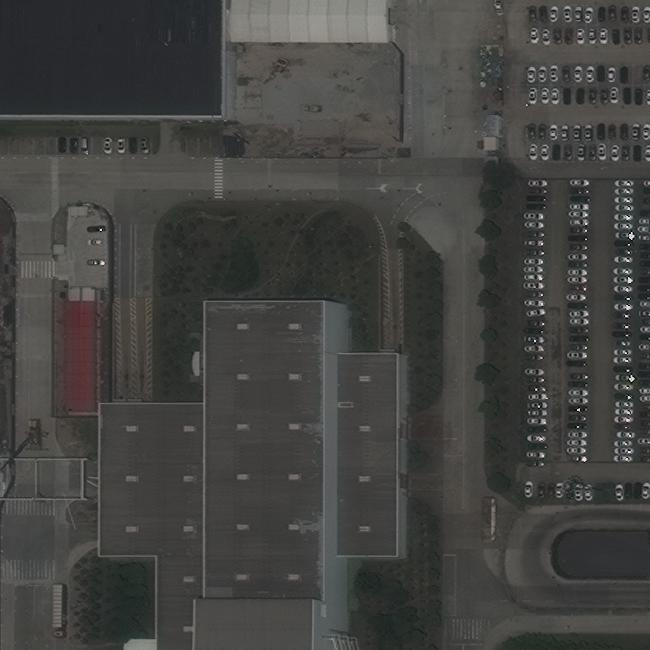parking lot: (526, 179, 549, 468), (614, 179, 634, 464), (569, 177, 588, 464), (7, 136, 150, 158), (523, 480, 643, 501), (526, 86, 643, 107), (528, 5, 641, 26), (528, 30, 643, 49), (525, 65, 634, 84), (526, 124, 640, 142), (525, 144, 641, 161)
